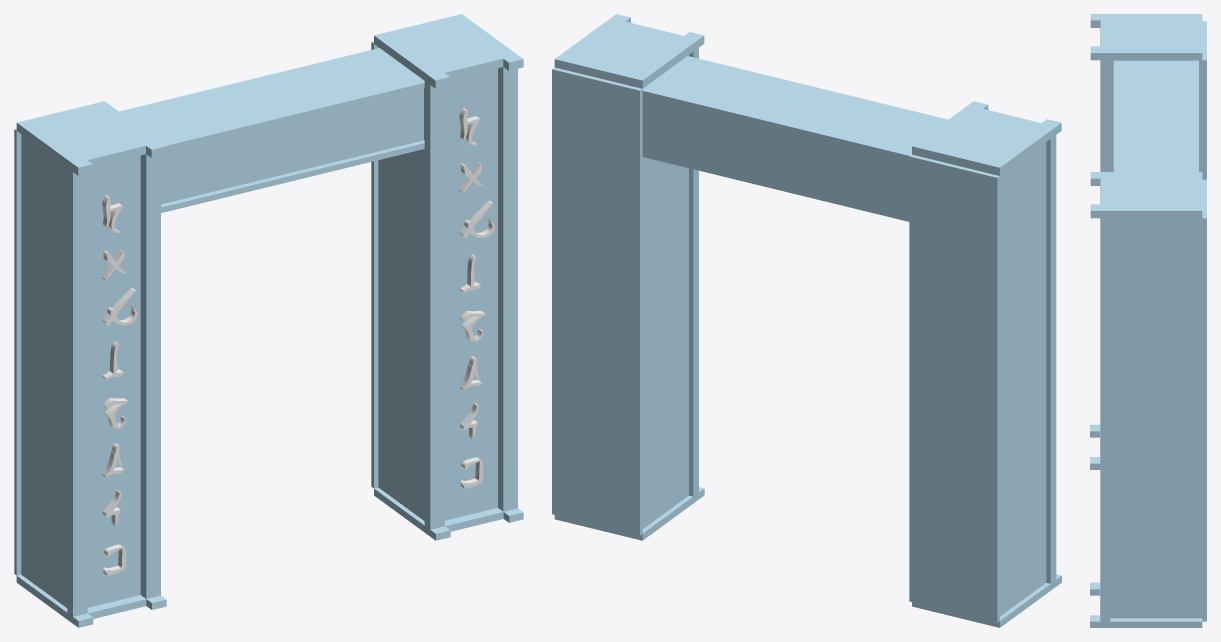
Rendered from mdl_portal_01.fbx.
3 renders of one model, left to right at view 1: azimuth 30°, elevation 25°; view 2: azimuth 150°, elevation 25°; view 3: azimuth 270°, elevation 25°, orthographic. The views are drawn at different scales.
Parts seen in each view (by area): view 1: pillar_r, letters_l, letters_r; view 2: pillar_r; view 3: pillar_r.
Part boxes in pixels (left/top/right/bottom): pillar_r: left=14, top=14, right=523, bottom=627; letters_l: left=101, top=195, right=137, bottom=575; letters_r: left=459, top=108, right=494, bottom=488; pillar_r: left=552, top=14, right=1061, bottom=627; pillar_r: left=1090, top=14, right=1206, bottom=627.
Size of the model in its own units: 304 by 300 by 76.25.
